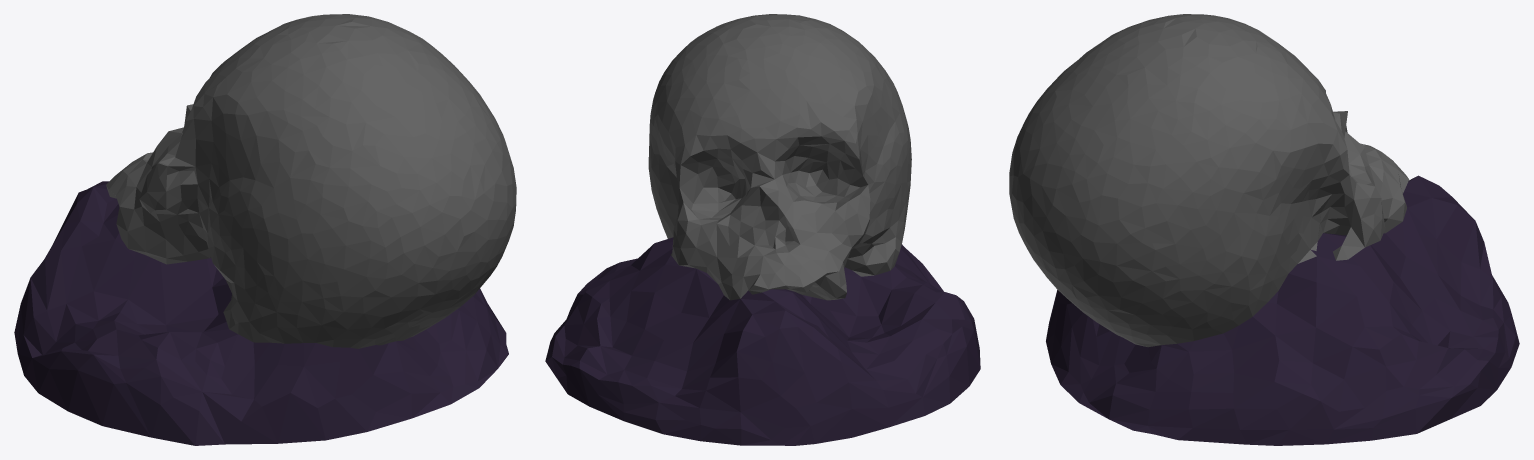
Rendered from Island_4.fbx.
The picture shows the model from 3 angles, left to right: view 1: azimuth 30°, elevation 25°; view 2: azimuth 150°, elevation 25°; view 3: azimuth 270°, elevation 25°; orthographic projection. The views are drawn at different scales.
Parts seen in each view (by area): view 1: Cube.202; view 2: Cube.202; view 3: Cube.202.
Boxes of the visible parts, x1,y1,x2,y2 form: Cube.202: (14,14,516,445); Cube.202: (545,14,980,445); Cube.202: (1009,14,1519,445).
Bounding box in the file's own units: 34.87 × 26.63 × 36.83.
